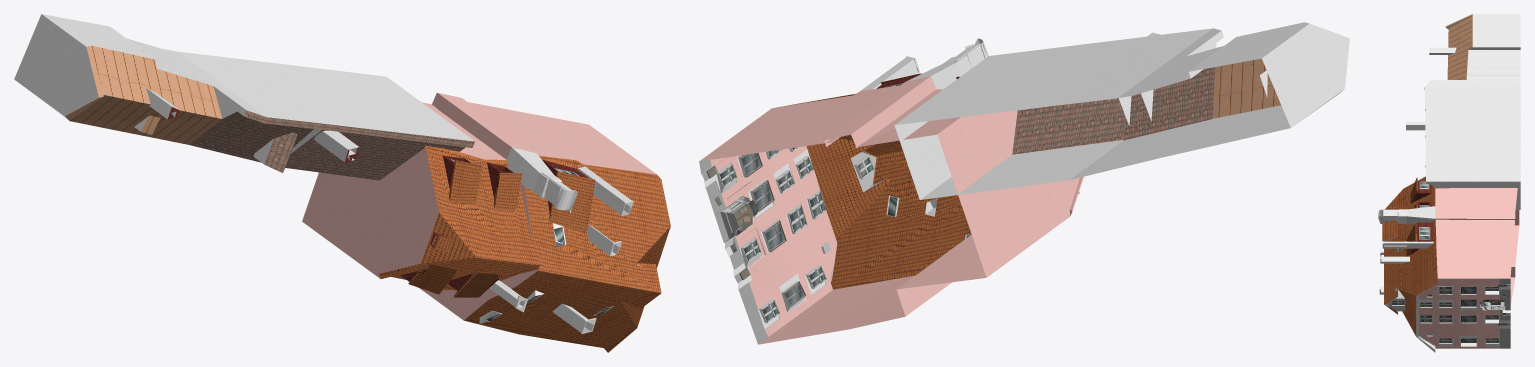
The model's file is Pikk_51-origo.obj.
The picture shows the model from 3 angles, left to right: view 1: azimuth 30°, elevation 25°; view 2: azimuth 150°, elevation 25°; view 3: azimuth 270°, elevation 25°; orthographic projection. The views are drawn at different scales.
Visible parts, largest first — view 1: Pikk_51; view 2: Pikk_51; view 3: Pikk_51.
Part boxes in pixels (box(x1,y1,x2,y2)): Pikk_51: box(14, 14, 670, 352); Pikk_51: box(699, 22, 1349, 344); Pikk_51: box(1378, 14, 1520, 352).
Size of the model in its own units: 50.75 by 34 by 20.6.
